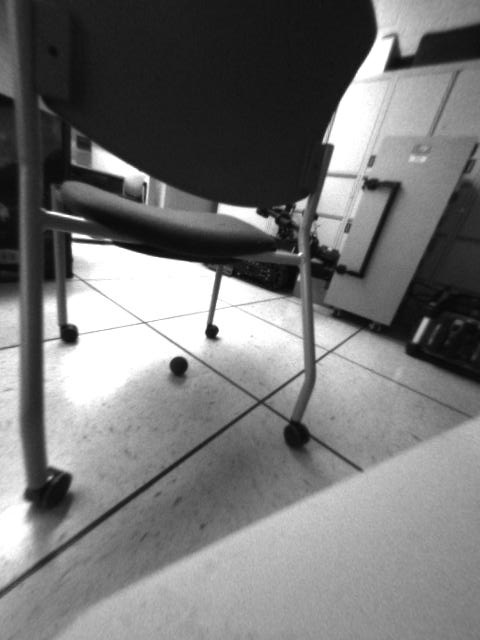dogtoy: (161, 350, 196, 385)
